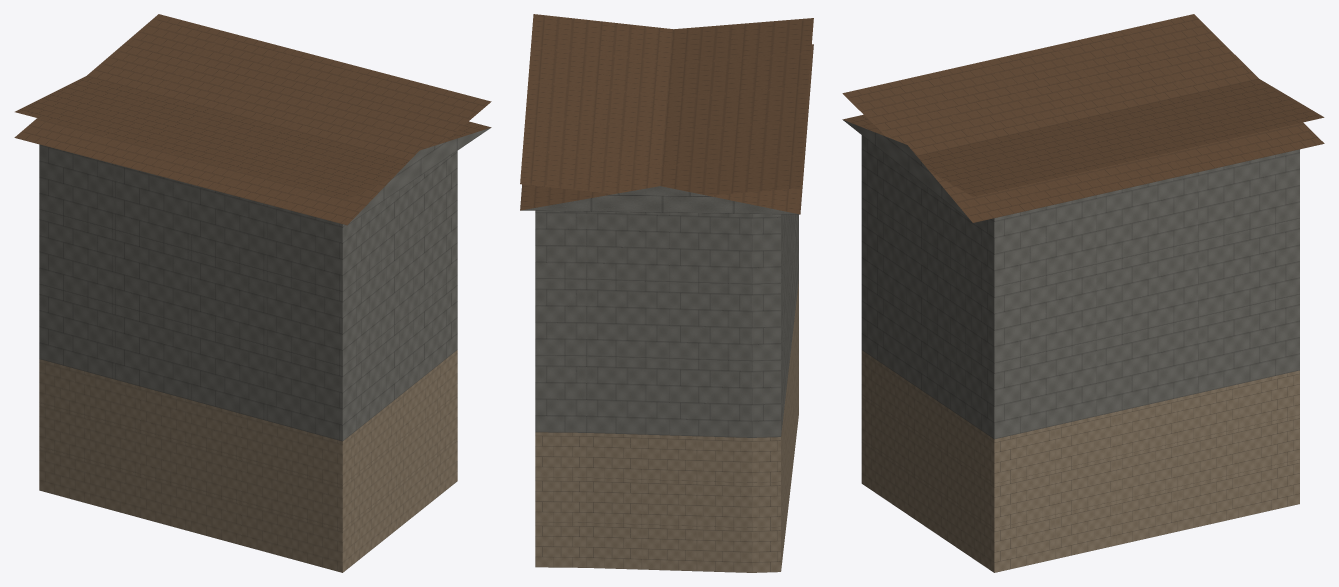
File: bld_c33_44_242.gltf
3 views of the same model, side by side, from view 1: azimuth 30°, elevation 25°; view 2: azimuth 150°, elevation 25°; view 3: azimuth 270°, elevation 25° (orthographic). The views are drawn at different scales.
Visible parts, largest first — view 1: bld_c33_44_242; view 2: bld_c33_44_242; view 3: bld_c33_44_242.
Boxes of the visible parts, x1,y1,x2,y2 form: bld_c33_44_242: (14, 14, 491, 572); bld_c33_44_242: (520, 14, 813, 572); bld_c33_44_242: (842, 14, 1324, 572).
Bounding box in the file's own units: 14.97 × 14.8 × 16.69.
4 materials, 4 textured.
